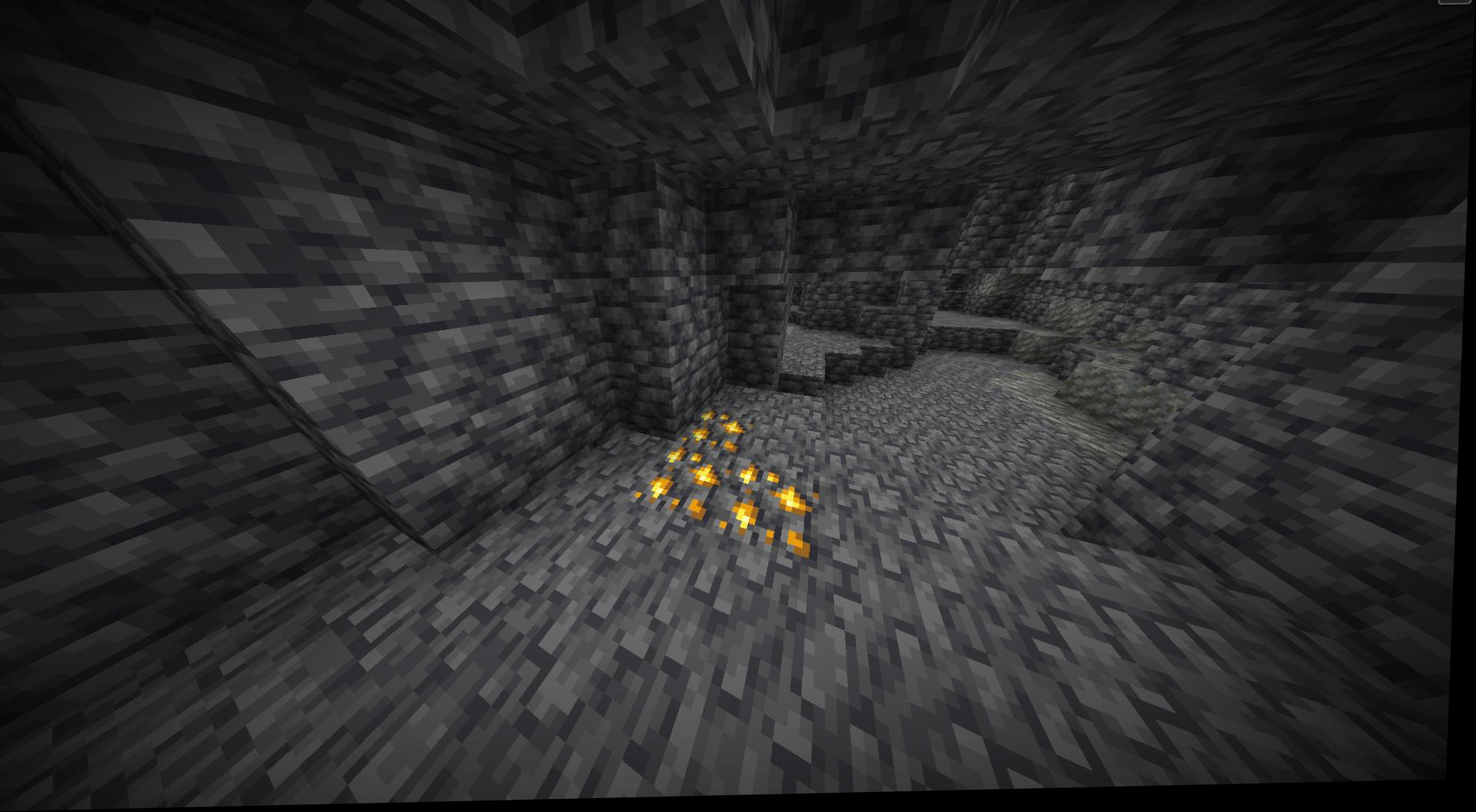gold ore: (725, 466, 818, 552), (642, 451, 726, 520), (682, 410, 752, 461)
